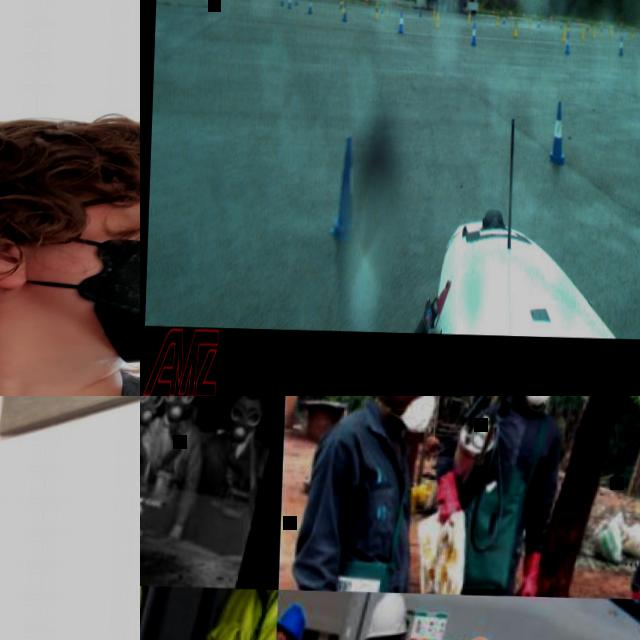Hardhat: (360, 588, 408, 640), (278, 604, 306, 640)
Mask: (0, 223, 140, 367), (397, 396, 439, 436), (228, 416, 252, 441), (164, 400, 188, 421), (140, 400, 156, 423), (523, 396, 554, 406)
NO-Hardhat: (0, 107, 140, 208), (238, 396, 264, 403)
NO-Safety Vest: (462, 397, 558, 599), (317, 396, 415, 590), (196, 431, 268, 551), (140, 415, 194, 515)
Person: (0, 98, 140, 396), (289, 396, 442, 592), (426, 396, 569, 599), (0, 491, 140, 640), (190, 396, 270, 560), (629, 520, 640, 600)
Safety Cone: (328, 136, 362, 244), (548, 100, 568, 165), (470, 21, 478, 47), (340, 1, 348, 22), (397, 11, 404, 34), (564, 32, 571, 54), (618, 36, 624, 57), (373, 0, 379, 19), (580, 23, 586, 41), (434, 11, 440, 28), (306, 0, 313, 14), (513, 19, 518, 38), (598, 24, 604, 38), (609, 22, 614, 38), (379, 0, 384, 14), (562, 25, 566, 41), (592, 23, 596, 38), (467, 10, 471, 24), (286, 0, 292, 9), (384, 2, 388, 15), (418, 5, 422, 18), (431, 7, 435, 20), (566, 19, 570, 32), (631, 26, 635, 39), (340, 0, 344, 12), (536, 17, 540, 29), (613, 22, 617, 34), (495, 15, 499, 26), (501, 14, 505, 25), (528, 18, 531, 30), (279, 0, 284, 7), (559, 18, 562, 29), (294, 0, 299, 5), (339, 0, 342, 8), (522, 10, 525, 18), (509, 10, 512, 17), (364, 0, 368, 5), (492, 7, 494, 16), (550, 14, 552, 22)
